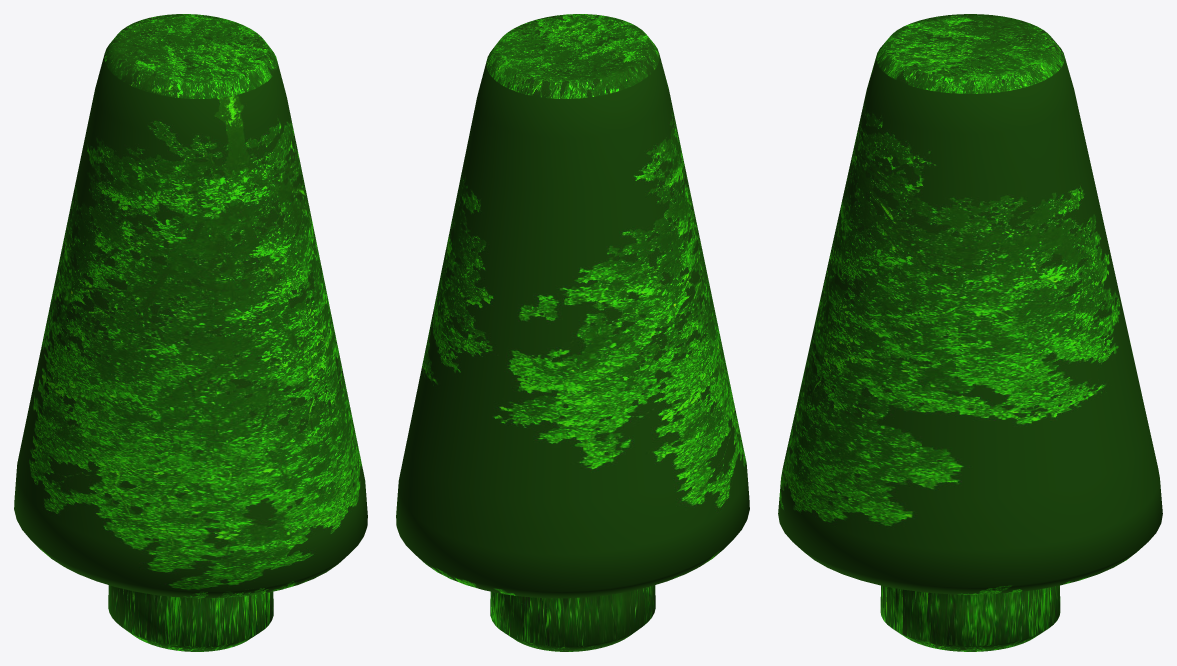
The model's file is cây-1.obj.
3 renders of one model, left to right at view 1: azimuth 30°, elevation 25°; view 2: azimuth 150°, elevation 25°; view 3: azimuth 270°, elevation 25°, orthographic.
Parts seen in each view (by area): view 1: Cone001; view 2: Cone001; view 3: Cone001.
Part boxes in pixels (left/top/right/bottom): Cone001: left=14, top=14, right=367, bottom=651; Cone001: left=396, top=14, right=749, bottom=651; Cone001: left=778, top=14, right=1162, bottom=651.
Bounding box in the file's own units: 2.79 × 5.13 × 3.1.
